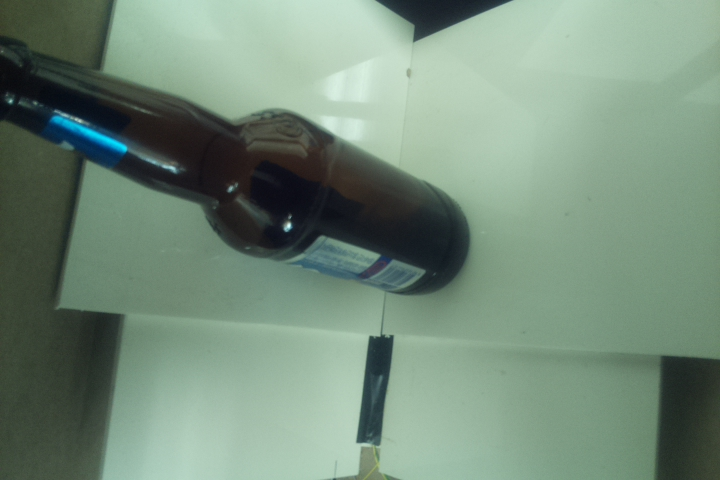makju: (1, 32, 471, 297)
